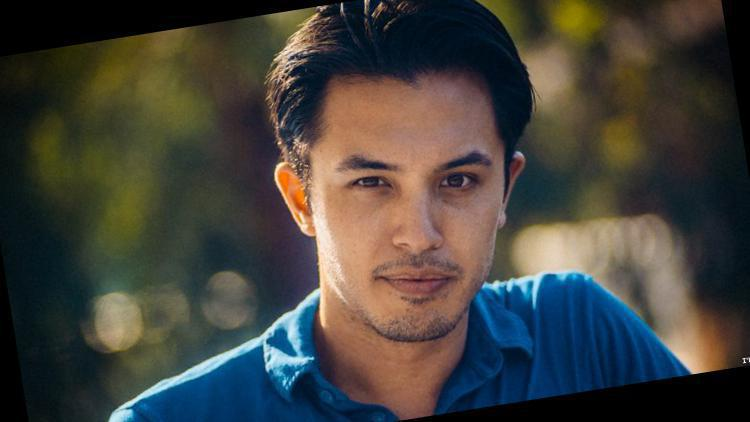Sober: (312, 78, 502, 328)
